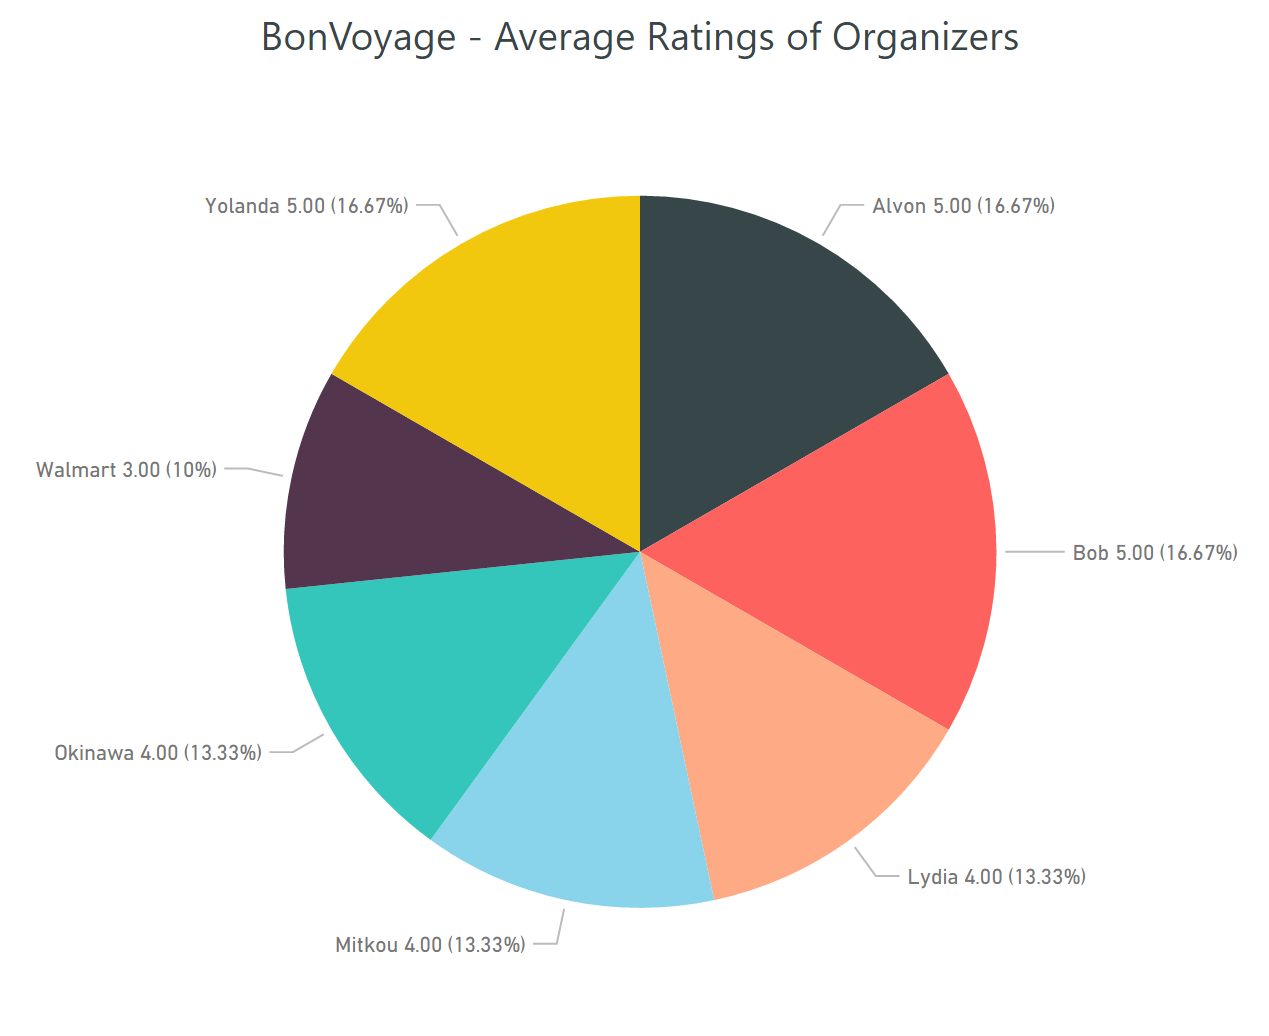

This screenshot's page, from the dashboard's own definition file:
{"tool":"powerbi","page":{"name":"Page 3","canvas":[1280,720],"ordinal":2},"visuals":[{"type":"pieChart","fields":{"Category":["EventOrganizer.OrganizerName"],"Y":["Avg(Reviews.Ratings)"]},"box":[10.2,20.3,734.9,525.8],"z":1}]}

Visuals, with their boxes on the page's 1280x720 design canvas (x1, y1, x2, y2). These are canvas units, not pixel positions in the 1269x1036 screenshot, which may show the page scaled, cropped or inside an application window:
pieChart - EventOrganizer.OrganizerName x Avg(Reviews.Ratings): 10:20:745:546
